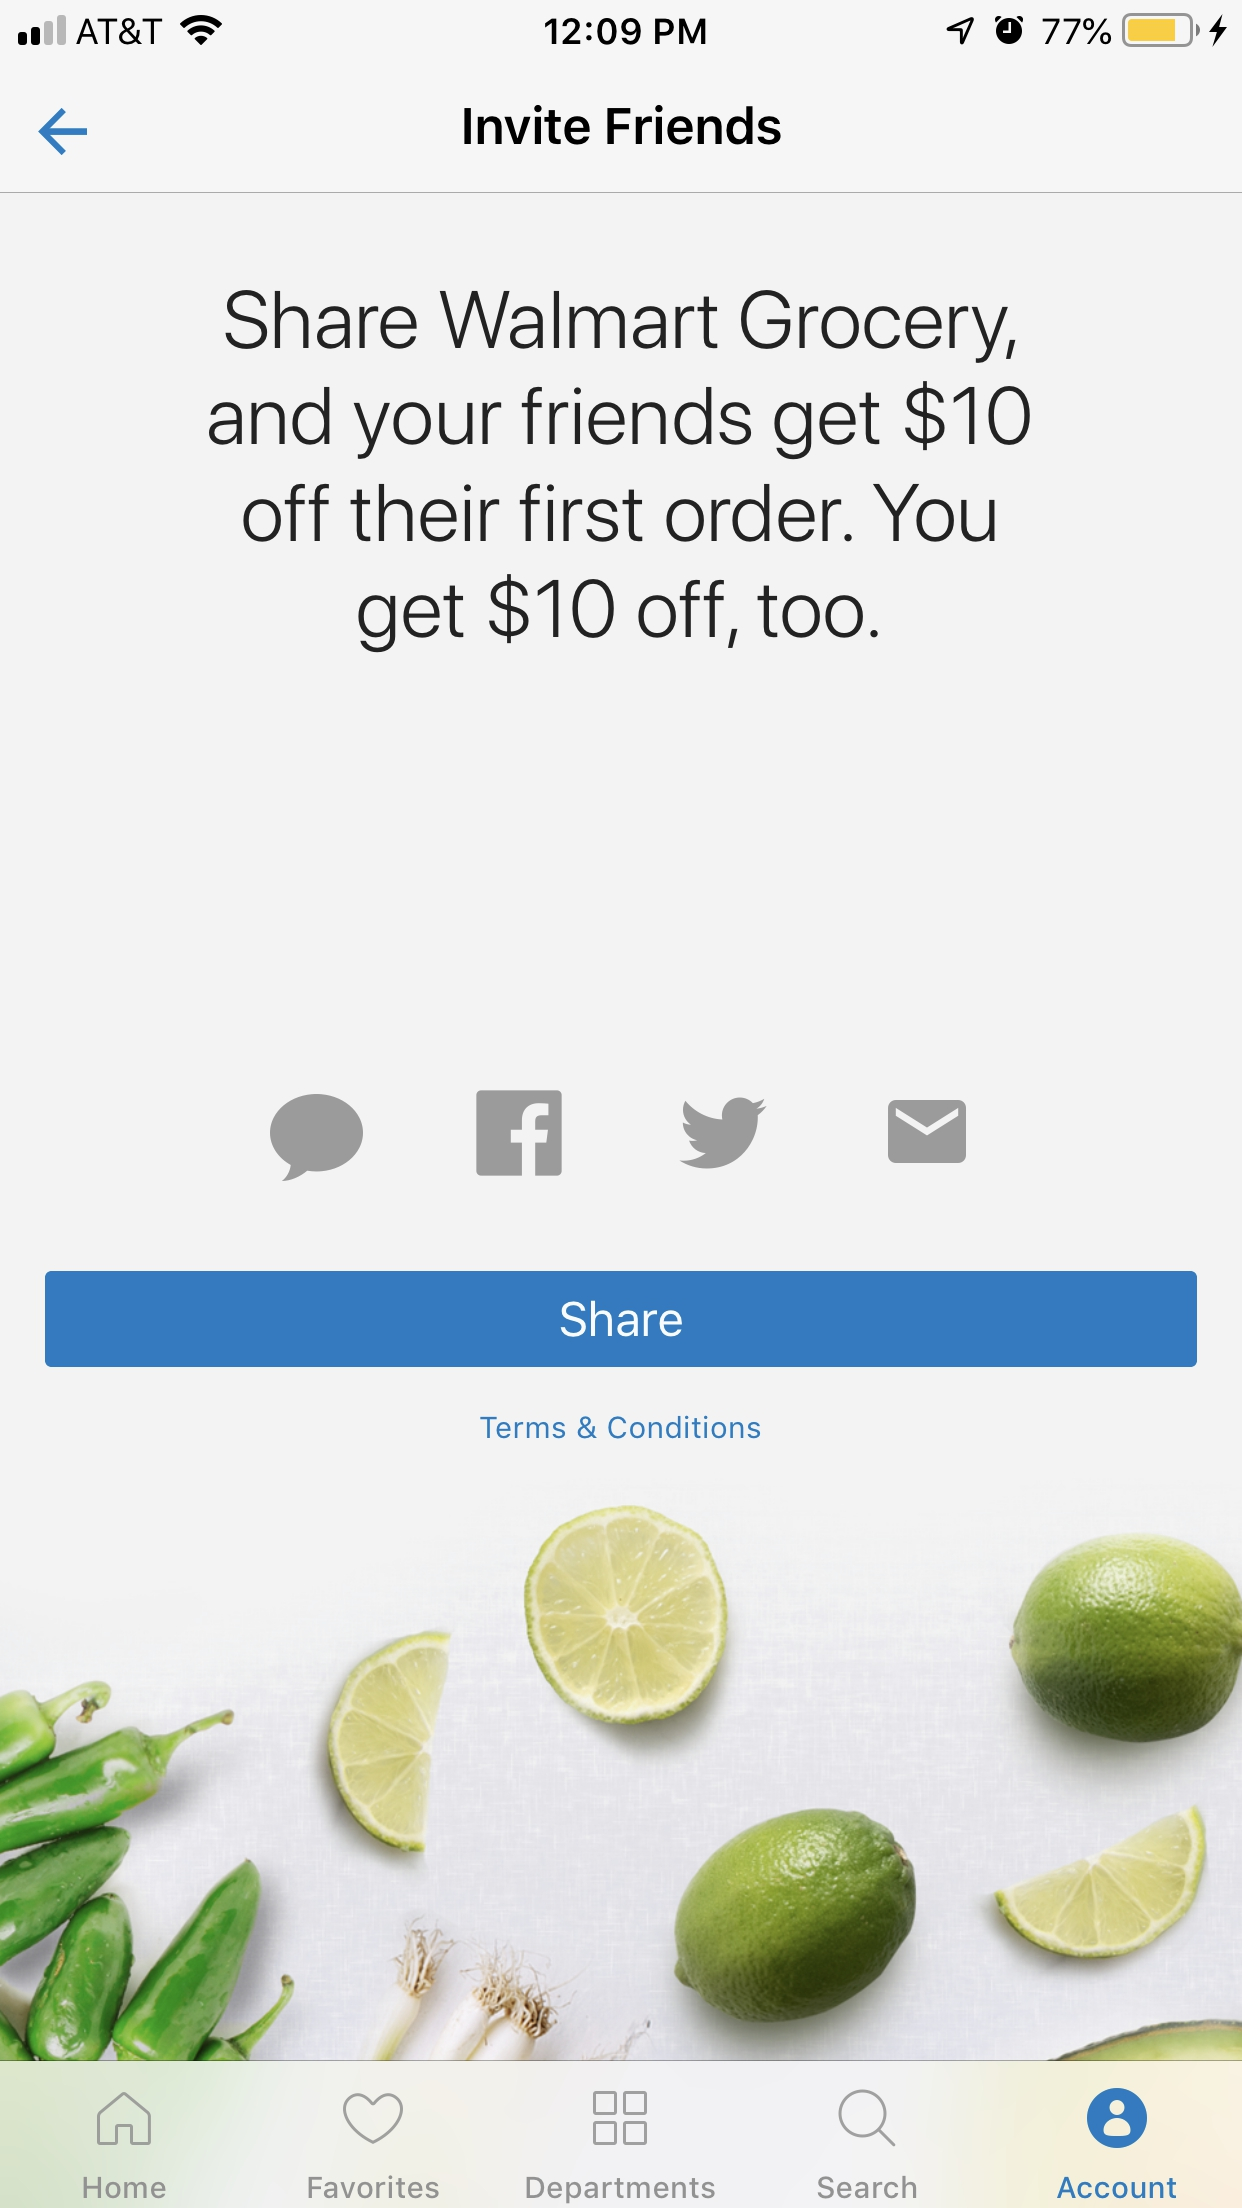Icon: (270, 1093, 365, 1183), (476, 1090, 563, 1177), (679, 1096, 767, 1171), (889, 1099, 968, 1165), (1086, 2087, 1148, 2149), (837, 2088, 896, 2147), (343, 2093, 403, 2144), (97, 2091, 153, 2146), (593, 2091, 648, 2146), (39, 109, 89, 158)
Image: (5, 1504, 1242, 2059)
Text: (206, 290, 1033, 654), (464, 105, 783, 146), (481, 1415, 761, 1441), (528, 2176, 716, 2203), (308, 2175, 440, 2199), (1055, 2176, 1177, 2199), (817, 2175, 917, 2199), (83, 2176, 167, 2199)
TextButton: (45, 1271, 1198, 1368)
UpperTaskBar: (2, 2, 1242, 49)
